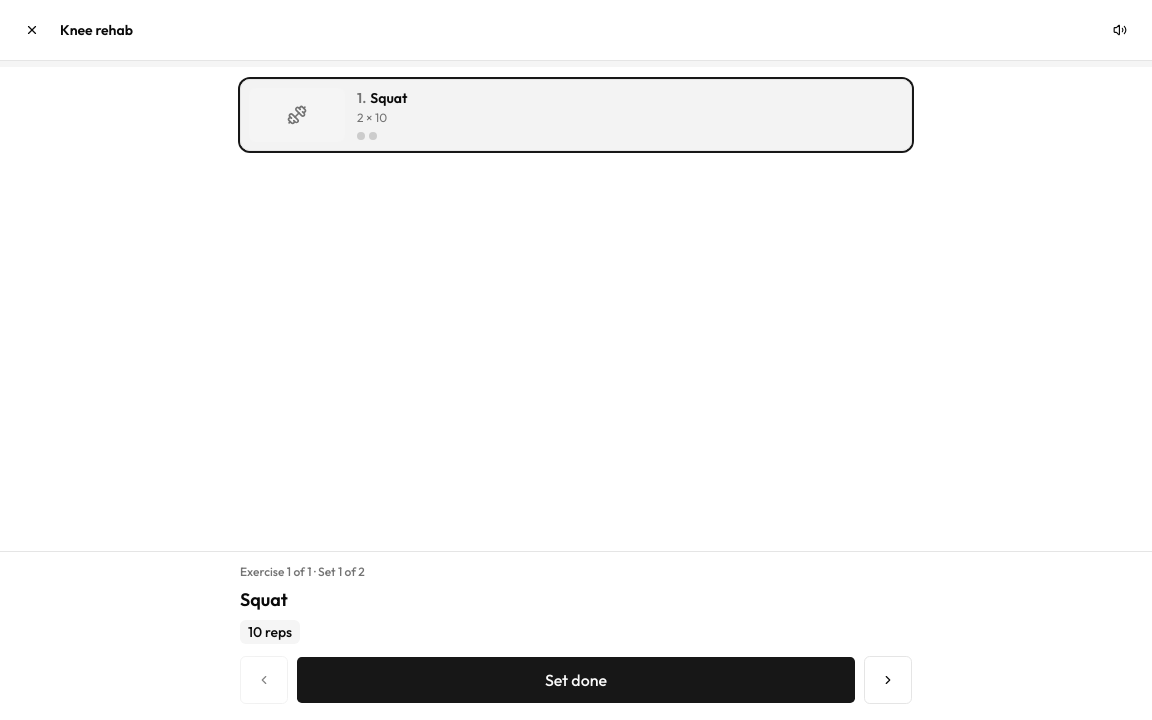
Test: WorkoutPlayer › toggles and remembers the sound
Step 1. Click the button named "Sound on" → (1120, 30), box [1096,6,1144,54]
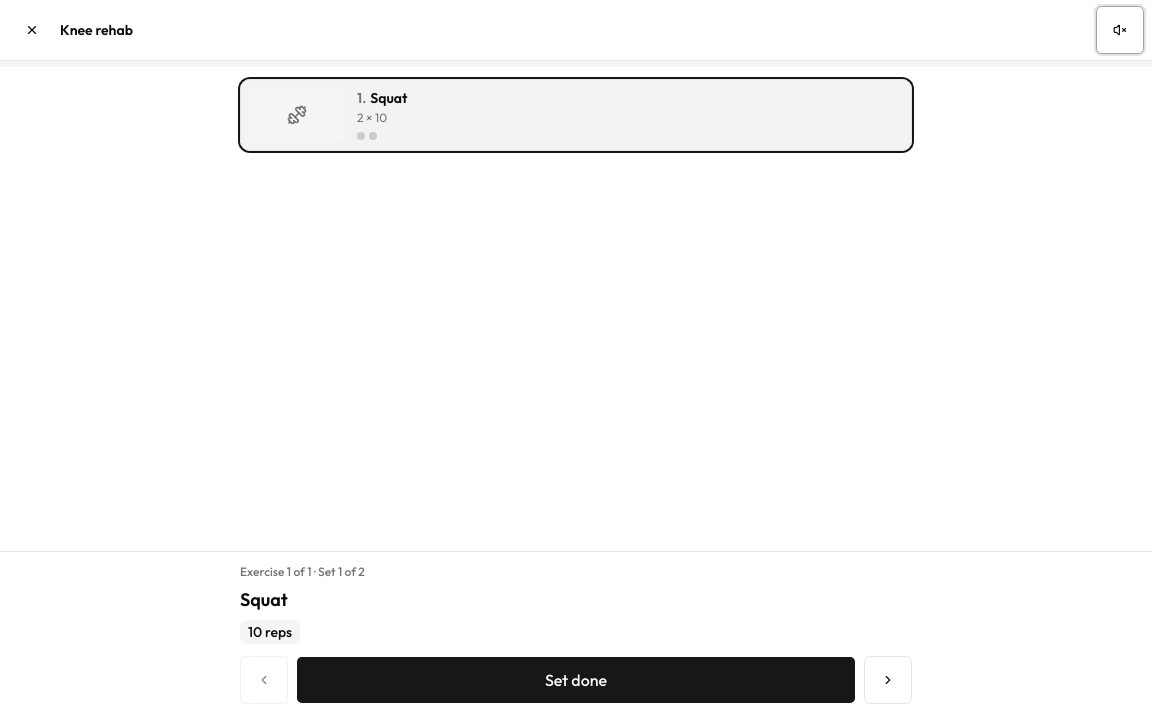
Expected: the button named "Sound off" is shown, [1096,6,1144,54]
